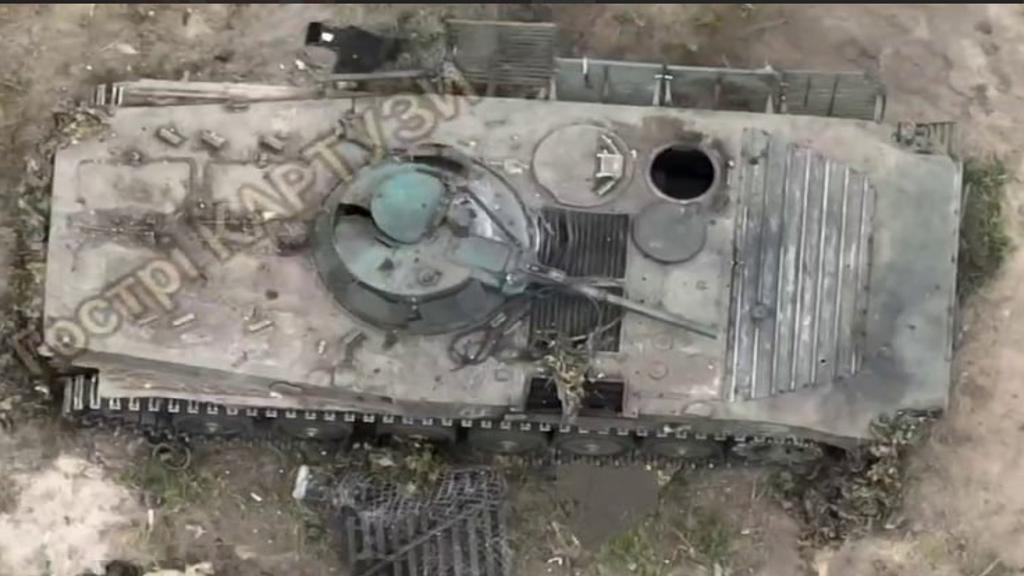APC-IFV: (36, 45, 960, 473)
